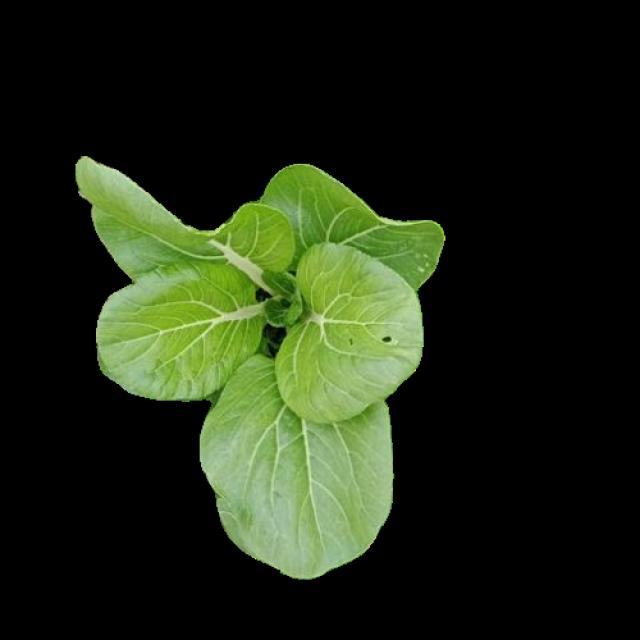mature: (78, 155, 442, 572)
unhealthy: (273, 241, 425, 424)
